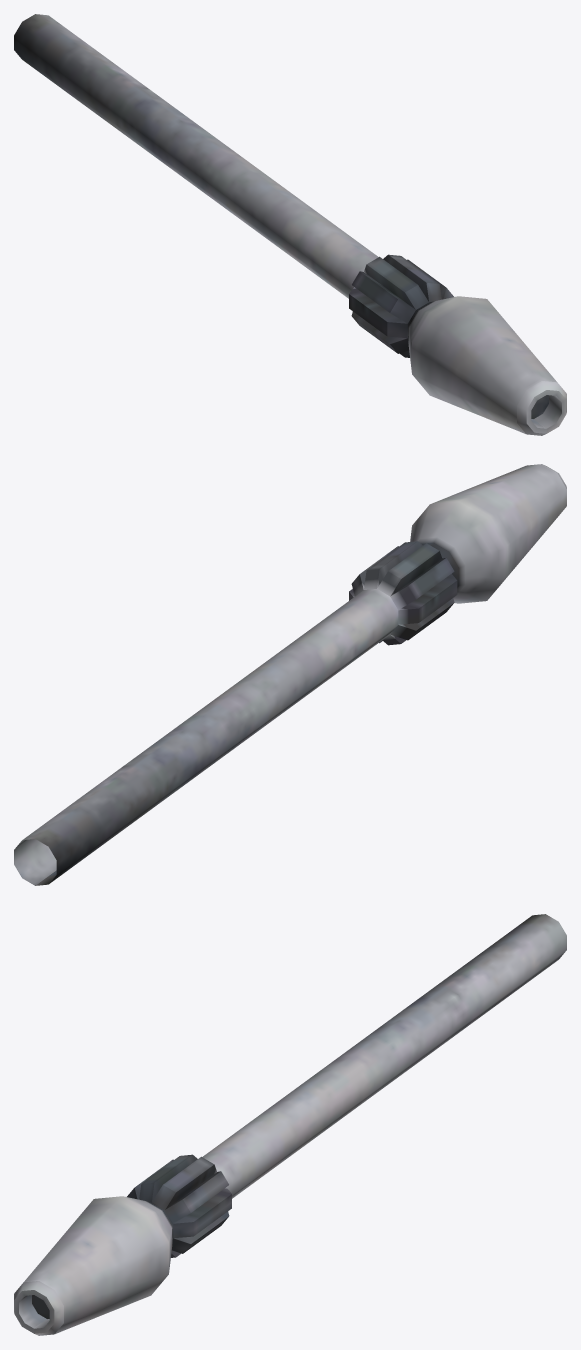
The model's file is spacestation_turret_barrel01_s01_l0.fbx.
3 renders of one model, top to bottom at view 1: azimuth 30°, elevation 25°; view 2: azimuth 150°, elevation 25°; view 3: azimuth 330°, elevation 25°, orthographic.
Parts seen in each view (by area): view 1: mesh_node; view 2: mesh_node; view 3: mesh_node.
Part boxes in pixels (box(x1,y1,x2,y2)): mesh_node: box(14, 14, 566, 435); mesh_node: box(14, 464, 566, 885); mesh_node: box(14, 914, 566, 1335).
Size of the model in its own units: 0.6115 by 0.643 by 5.84.
